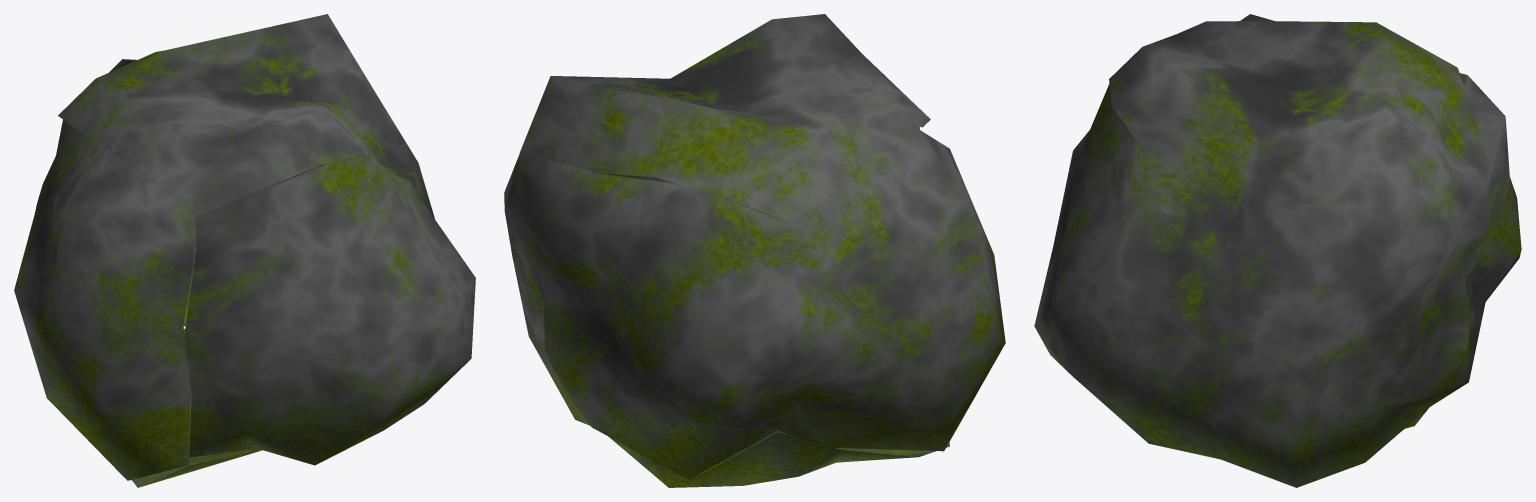
The model's file is boulder_lod1.glb.
3 views of the same model, side by side, from view 1: azimuth 30°, elevation 25°; view 2: azimuth 150°, elevation 25°; view 3: azimuth 270°, elevation 25° (orthographic). The views are drawn at different scales.
Parts seen in each view (by area): view 1: BoulderMossyLarge.001; view 2: BoulderMossyLarge.001; view 3: BoulderMossyLarge.001.
Boxes of the visible parts, x1,y1,x2,y2 form: BoulderMossyLarge.001: (14, 14, 475, 487); BoulderMossyLarge.001: (504, 14, 1005, 487); BoulderMossyLarge.001: (1034, 14, 1521, 487).
Size of the model in its own units: 3.38 by 2.87 by 3.34.
1 material, 1 textured.
